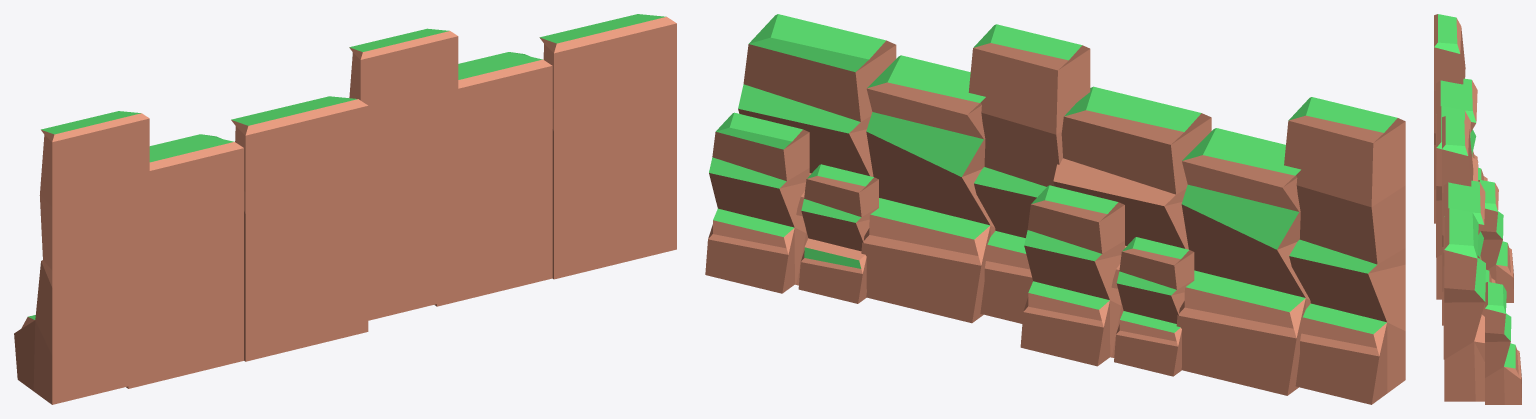
File: cliff1_coral_grass.glb
3 views of the same model, side by side, from view 1: azimuth 30°, elevation 25°; view 2: azimuth 150°, elevation 25°; view 3: azimuth 270°, elevation 25° (orthographic). The views are drawn at different scales.
Parts seen in each view (by area): view 1: Cube; view 2: Cube; view 3: Cube.
Part boxes in pixels (x1,y1,x2,y2): Cube: (14,14,676,404); Cube: (705,14,1405,404); Cube: (1434,14,1521,404).
Size of the model in its own units: 167 by 66.75 by 28.92.
